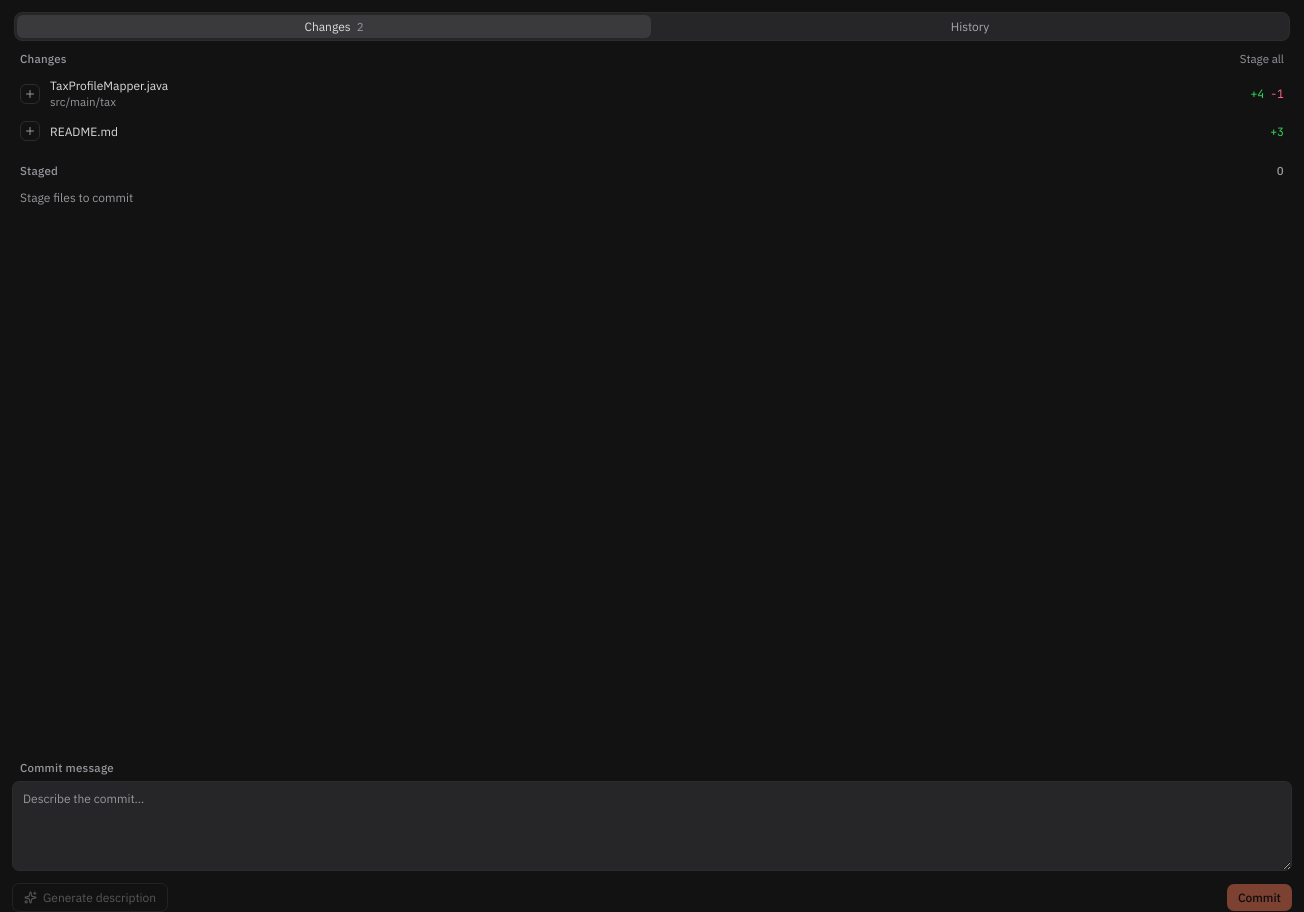
Test case: History tab › shows the branch against its upstream and each commit with its marks
Click the tab "History" at (970, 26), box [653,15,1287,38]
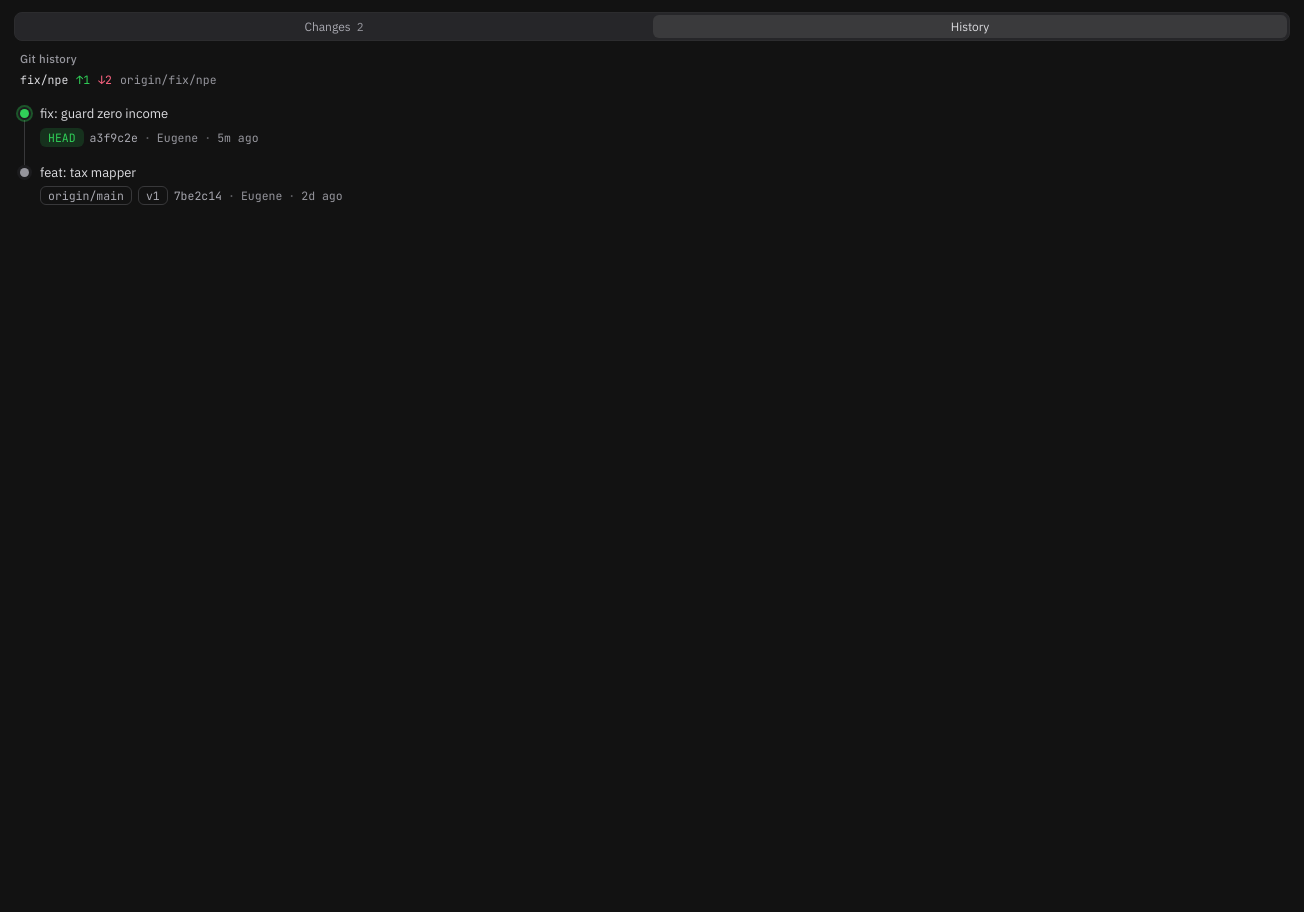
Check: the element with class "history-branch" reads "fix/npe ↑1 ↓2 origin/fix/npe", box [20,72,216,87]
